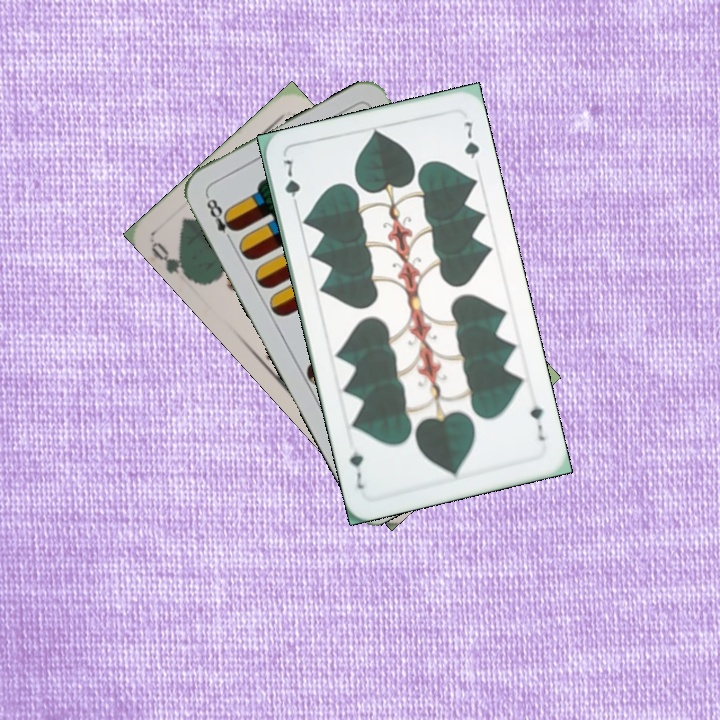E8: (202, 191, 240, 246)
G7: (279, 155, 303, 213), (525, 401, 548, 444)
GO: (147, 238, 196, 284)
